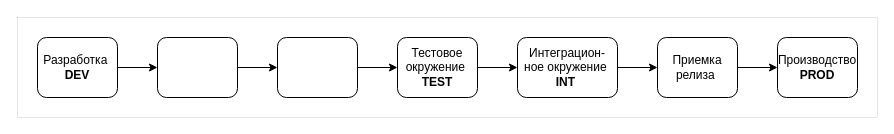
The diagram is 894 pixels wide and 134 high, and some of its shapes have lost their labels. The shapes that lost their labels are listed below. From the top down, each one's centre as x and y in pixels, then its label:
(197,67): Контроль версий GIT
(317,67): Сборка и проверка CI
